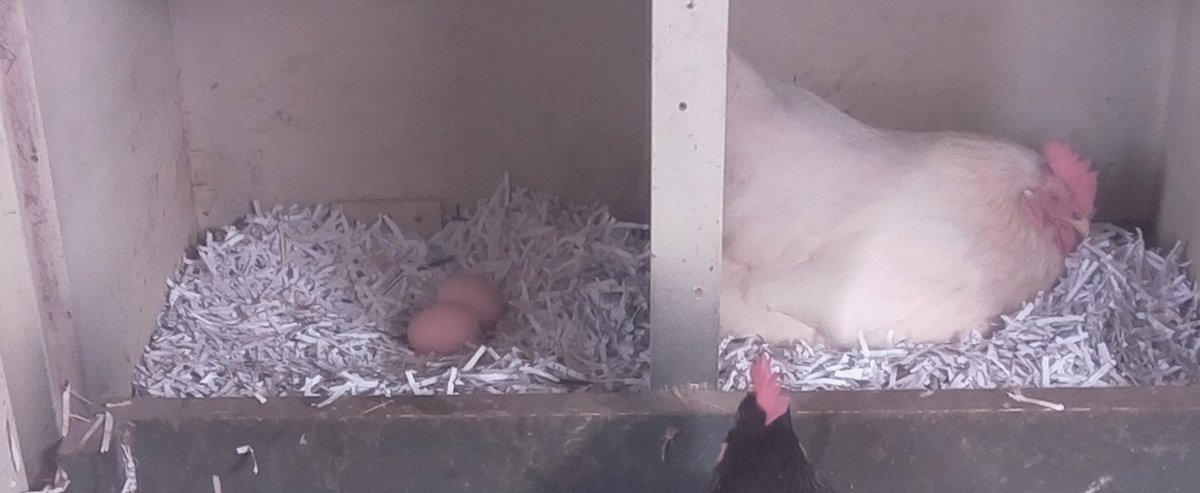egg: (404, 301, 482, 357), (432, 271, 505, 329)
hen: (728, 43, 1100, 348), (705, 345, 831, 493)
